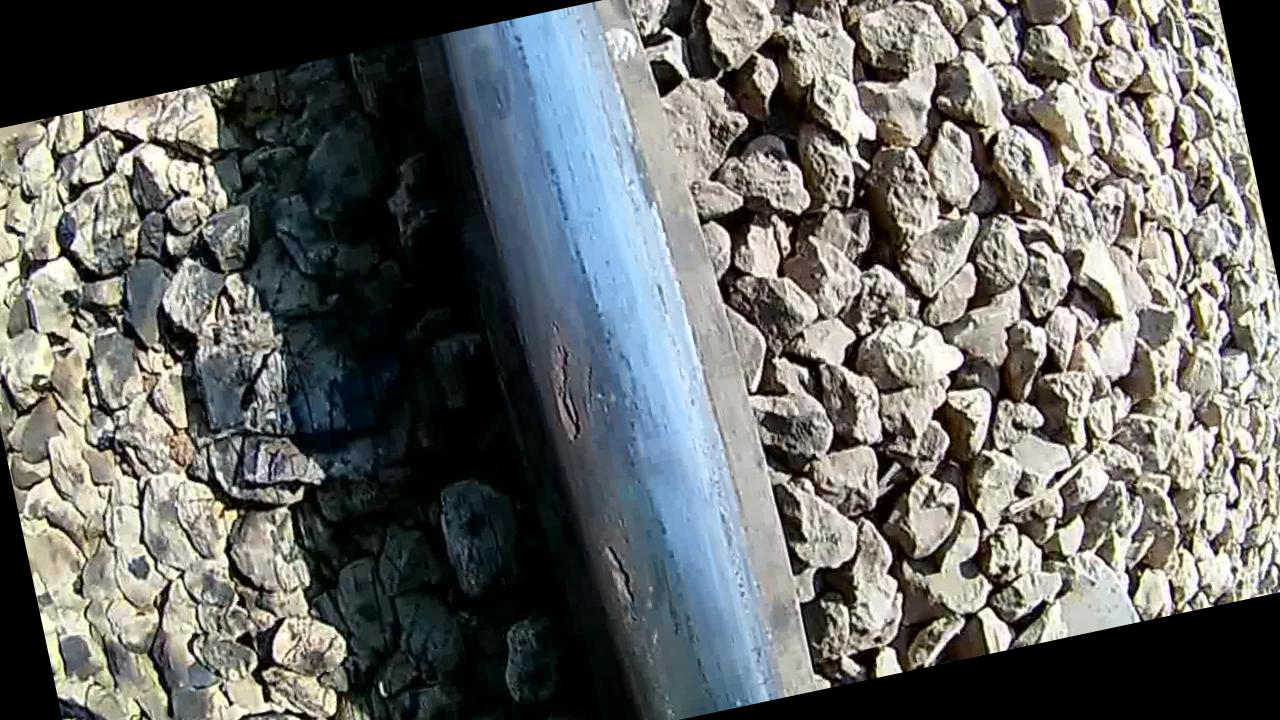crack: (452, 4, 738, 720)
